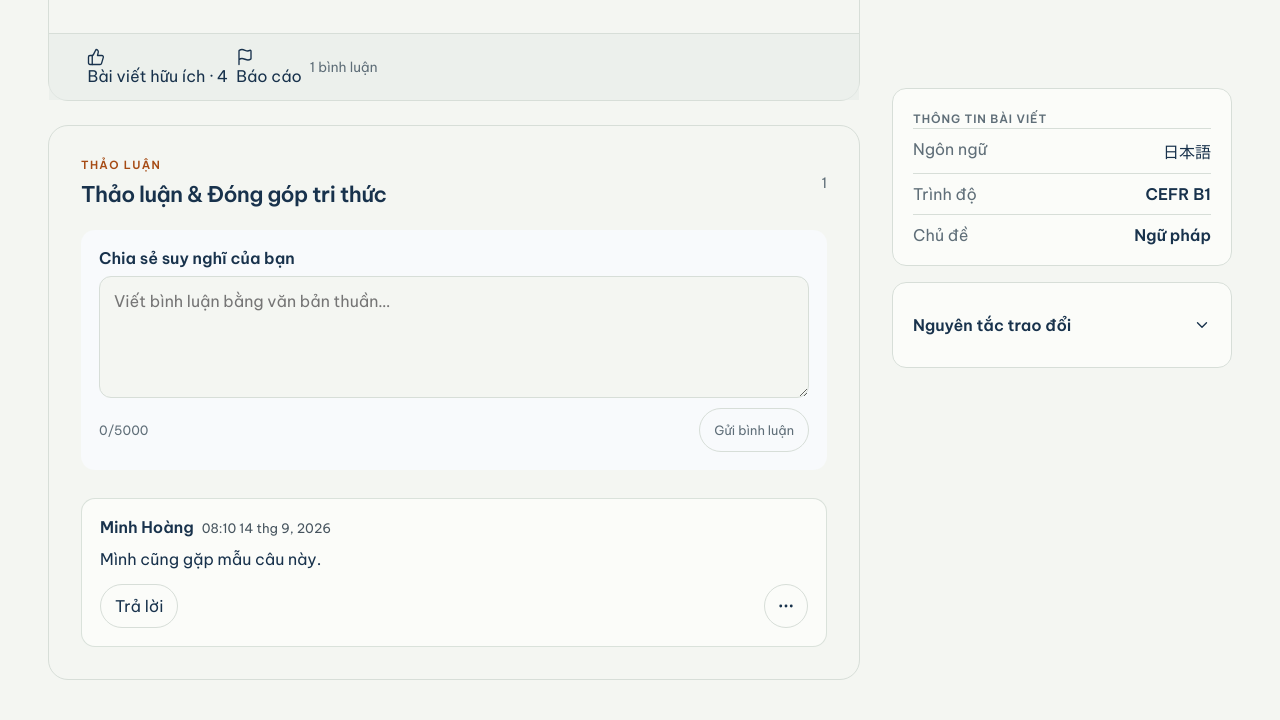
Test: CommunityPostDetailPageView › supports owner comment edit and soft-delete reconciliation
The width and height of the screenshot is (1280, 720).
(page scrolled)
Expected: the text "Minh Hoàng" is shown, x1=100 y1=517 x2=194 y2=537
Click the button named "Tùy chọn bình luận".
click(786, 606)  # box x1=764 y1=584 x2=808 y2=628
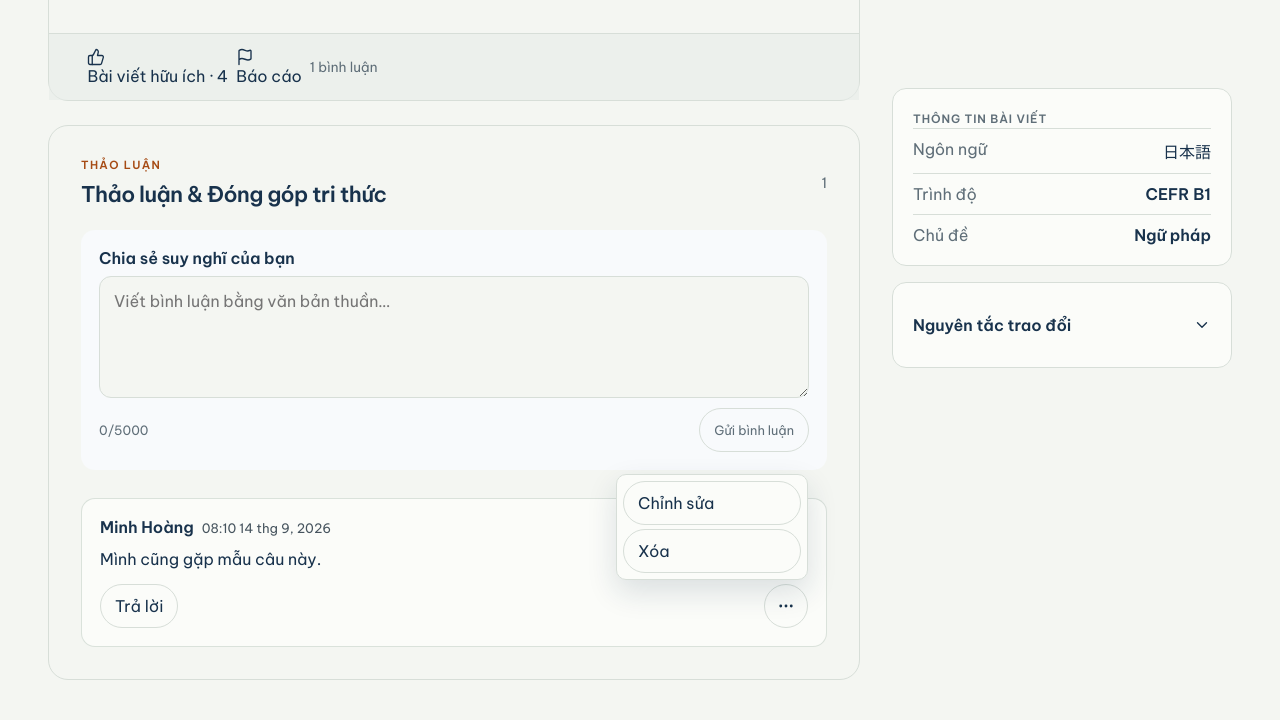
Click the menu item "Chỉnh sửa".
click(712, 503)  # box x1=623 y1=481 x2=801 y2=525
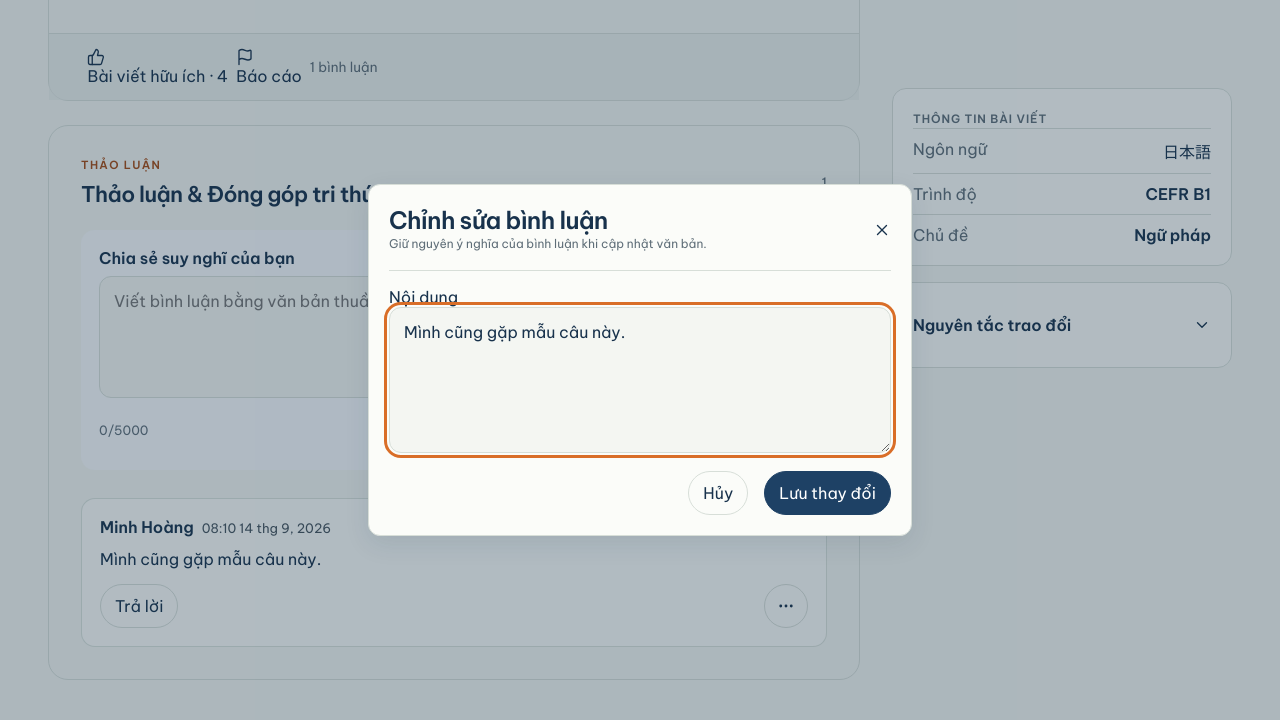
Replace the text in the text box labelled "Nội dung" with "Nội dung đã chỉnh sửa." at {"x": 640, "y": 380}, box x1=389 y1=307 x2=891 y2=453
Click the button "Lưu thay đổi".
click(828, 493)  # box x1=764 y1=471 x2=891 y2=515
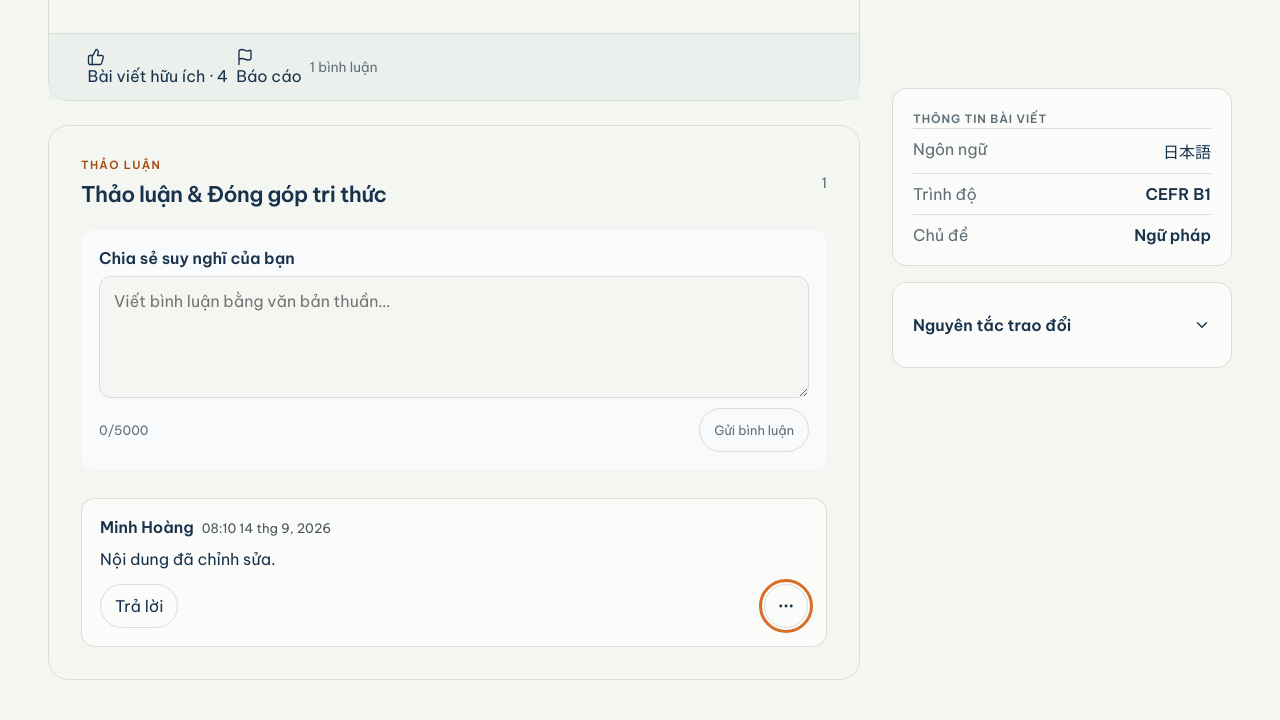
Expected: the text "Nội dung đã chỉnh sửa." is shown, x1=100 y1=549 x2=276 y2=569
Click the button named "Tùy chọn bình luận".
click(786, 606)  # box x1=764 y1=584 x2=808 y2=628
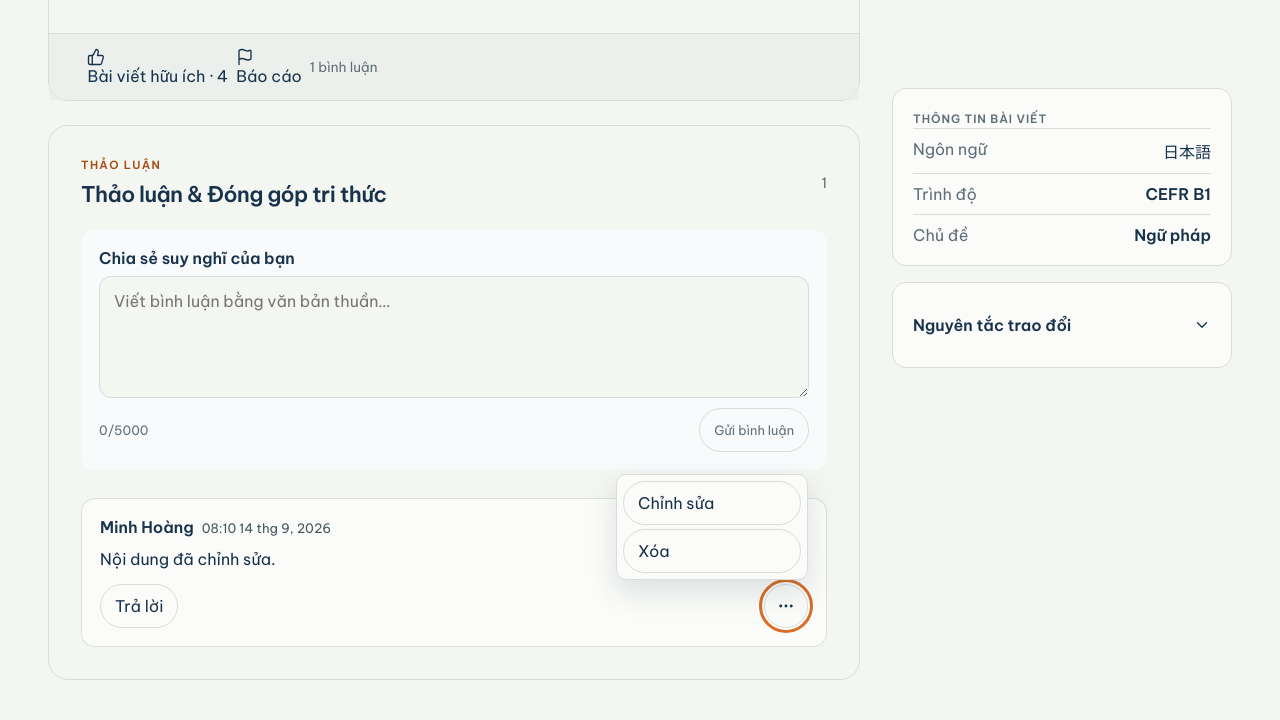
Click the menu item "Xóa".
click(712, 551)  # box x1=623 y1=529 x2=801 y2=573
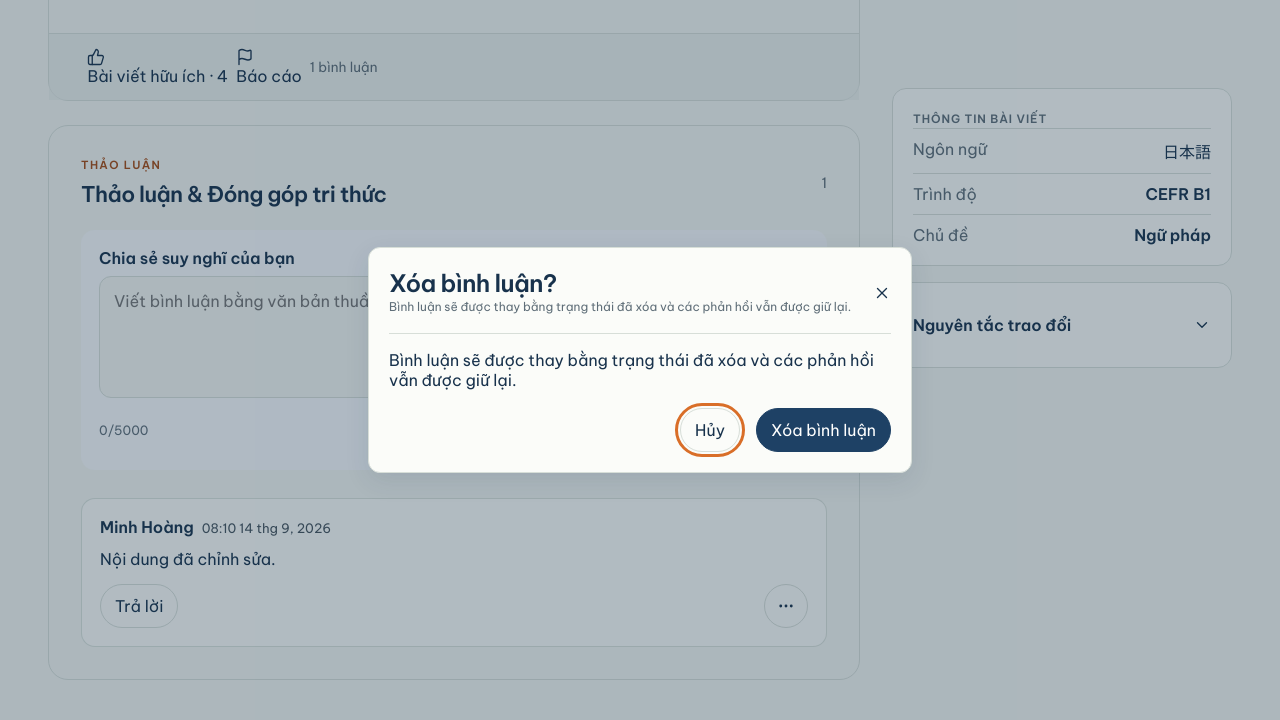
Click the button "Xóa bình luận".
click(824, 430)  # box x1=756 y1=408 x2=891 y2=452
(page scrolled)
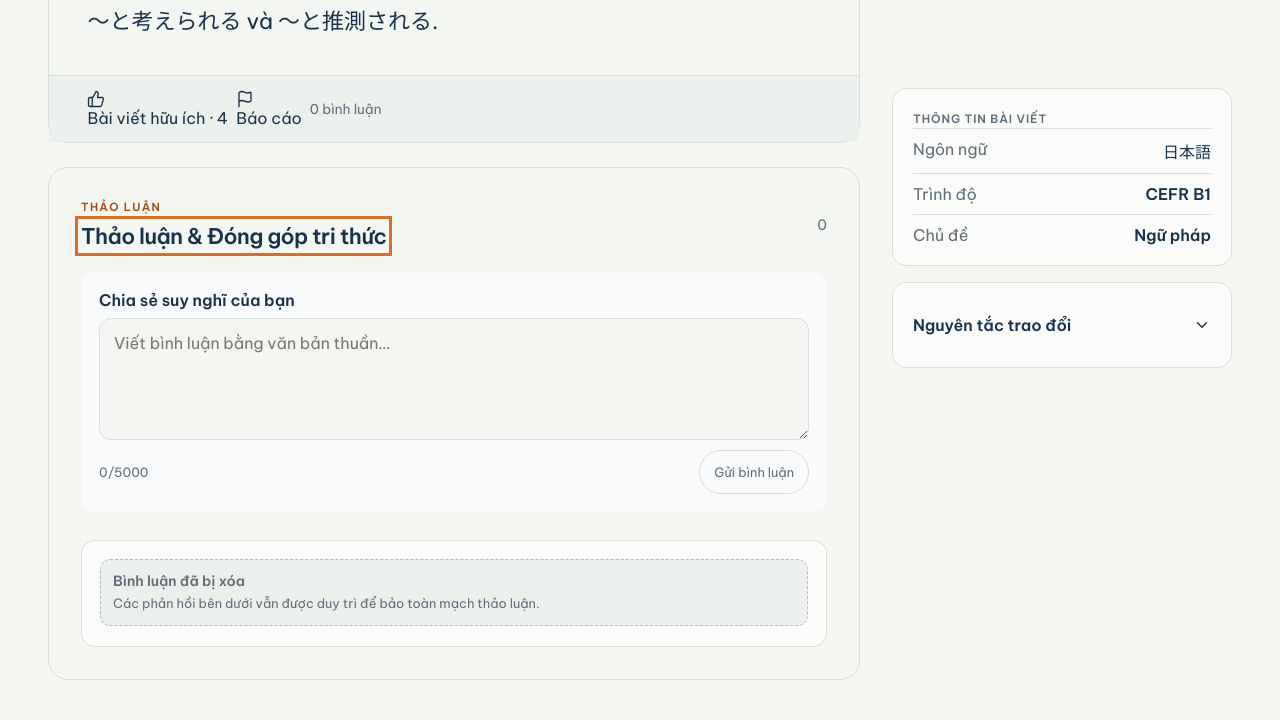
Expected: the text "Bình luận đã bị xóa" is shown, x1=113 y1=572 x2=245 y2=590
